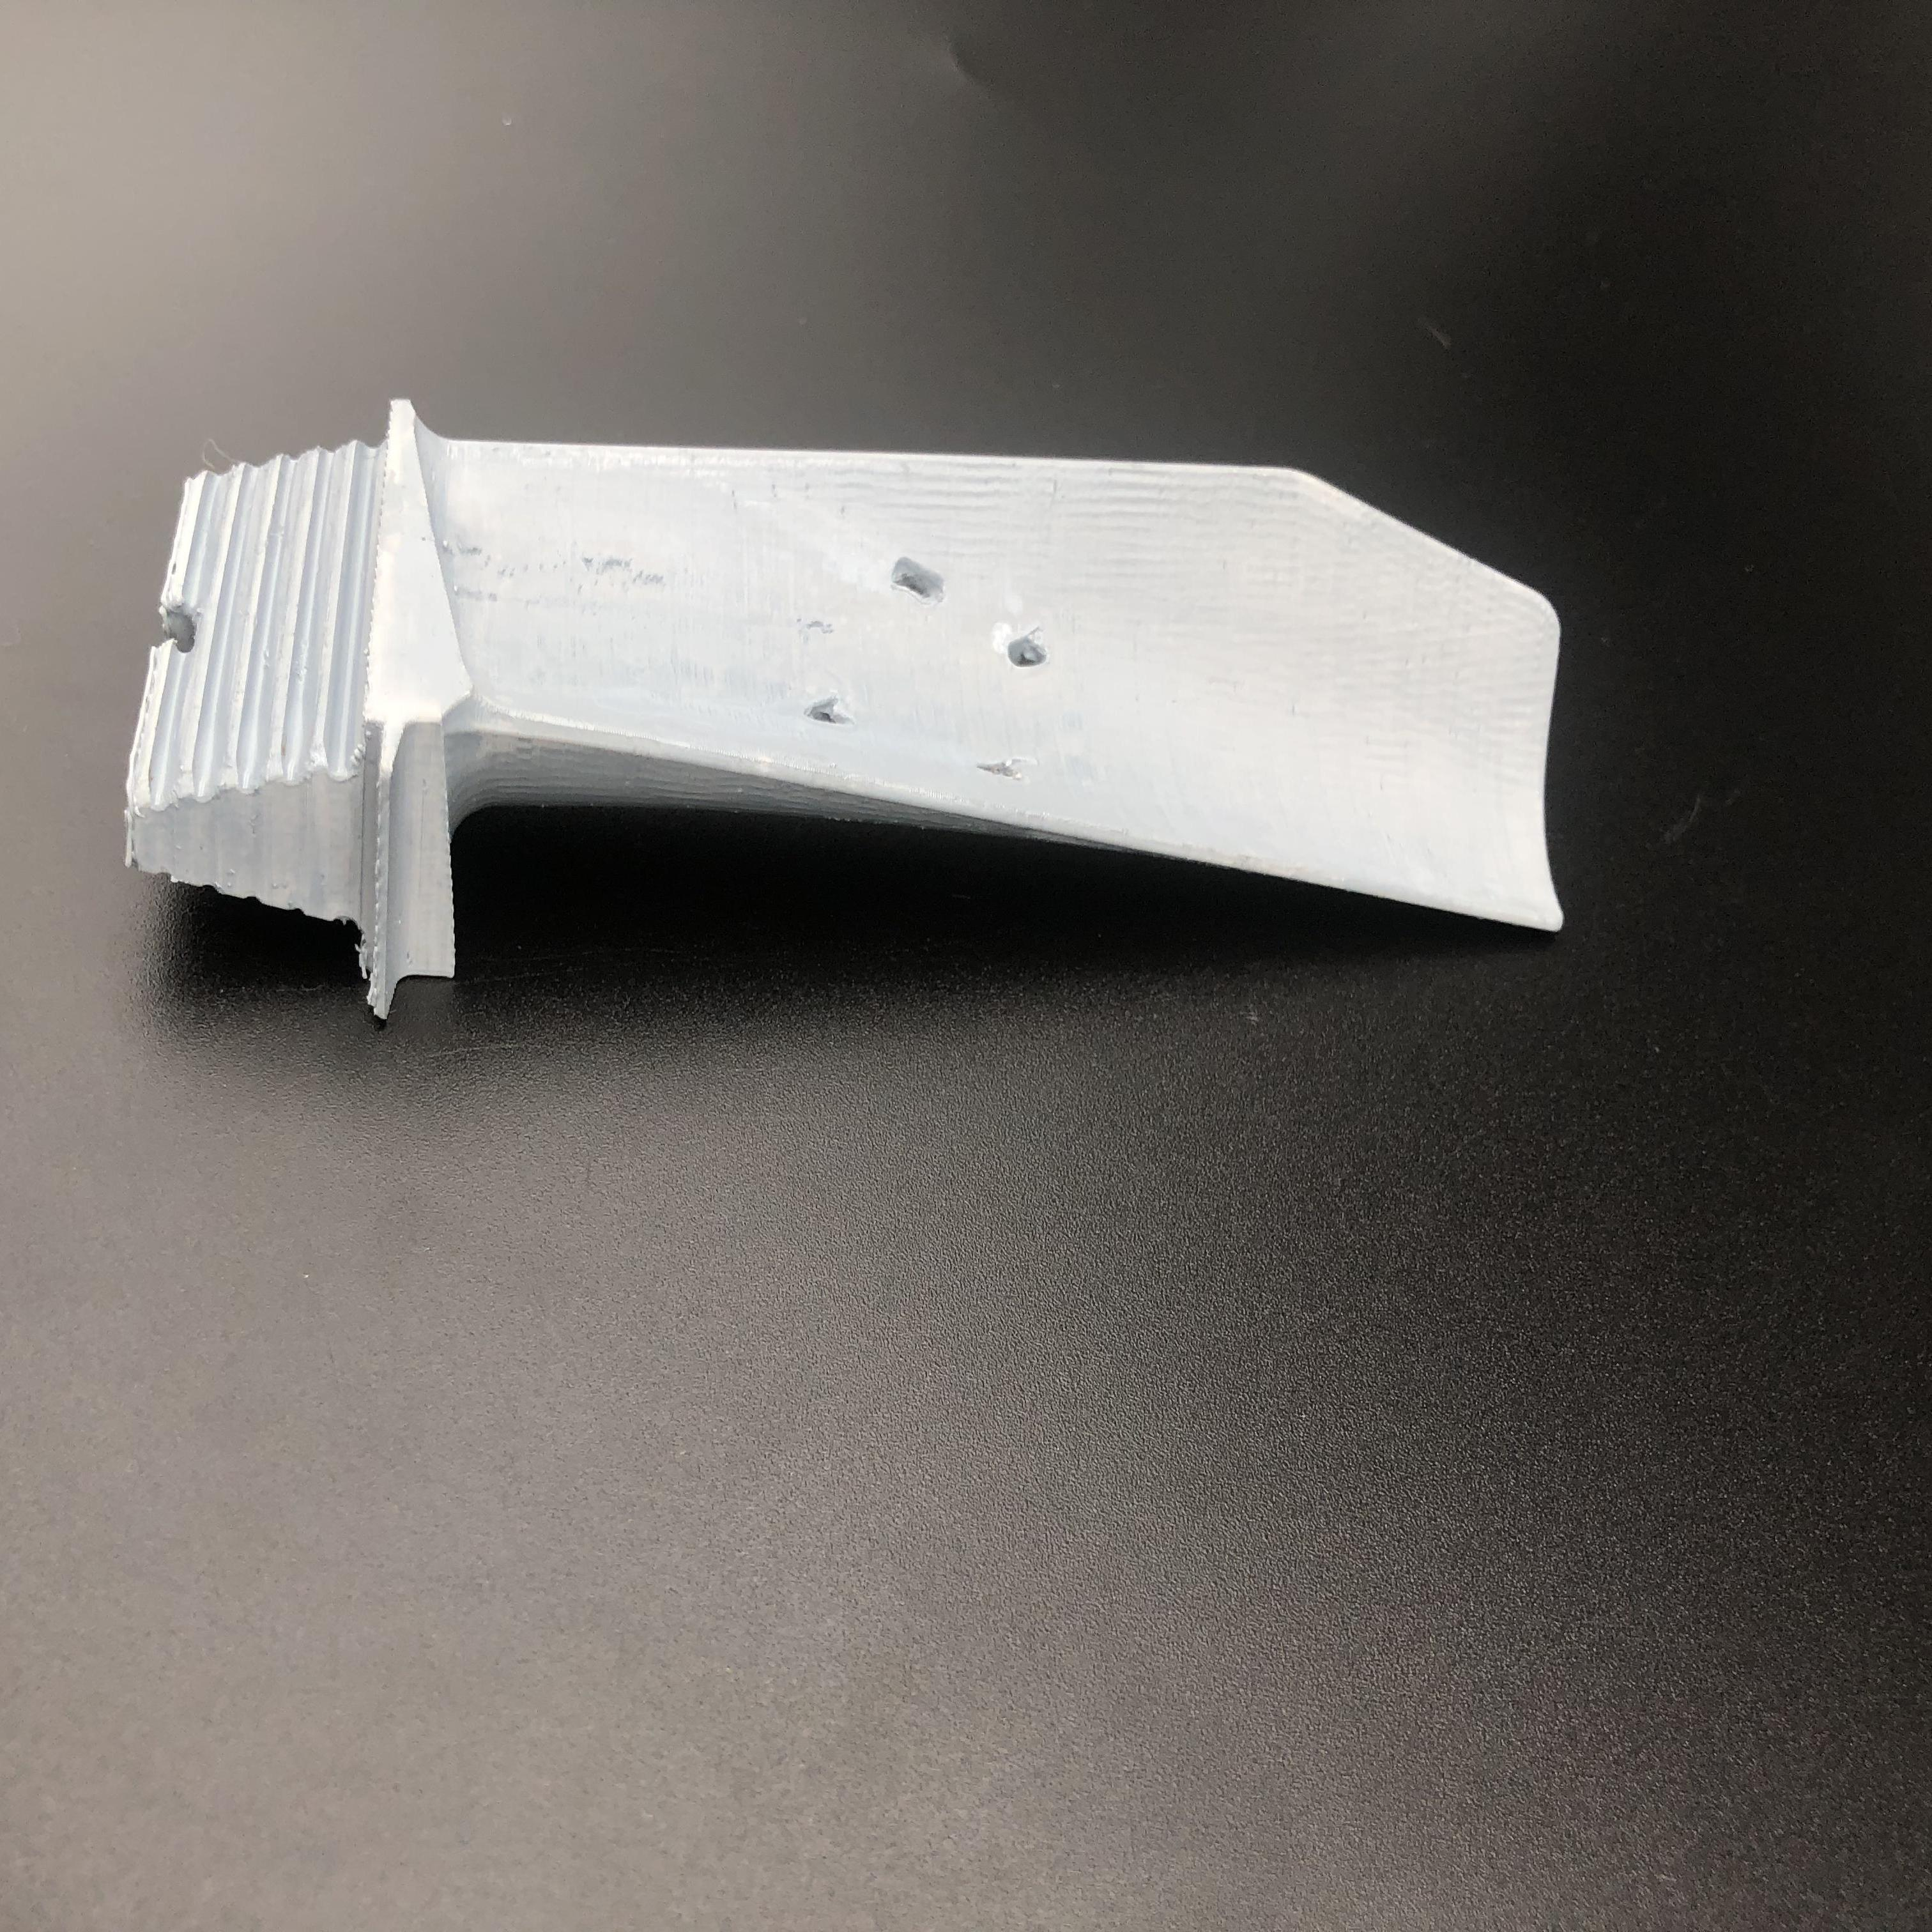breakdown: (803, 552, 1051, 786)
